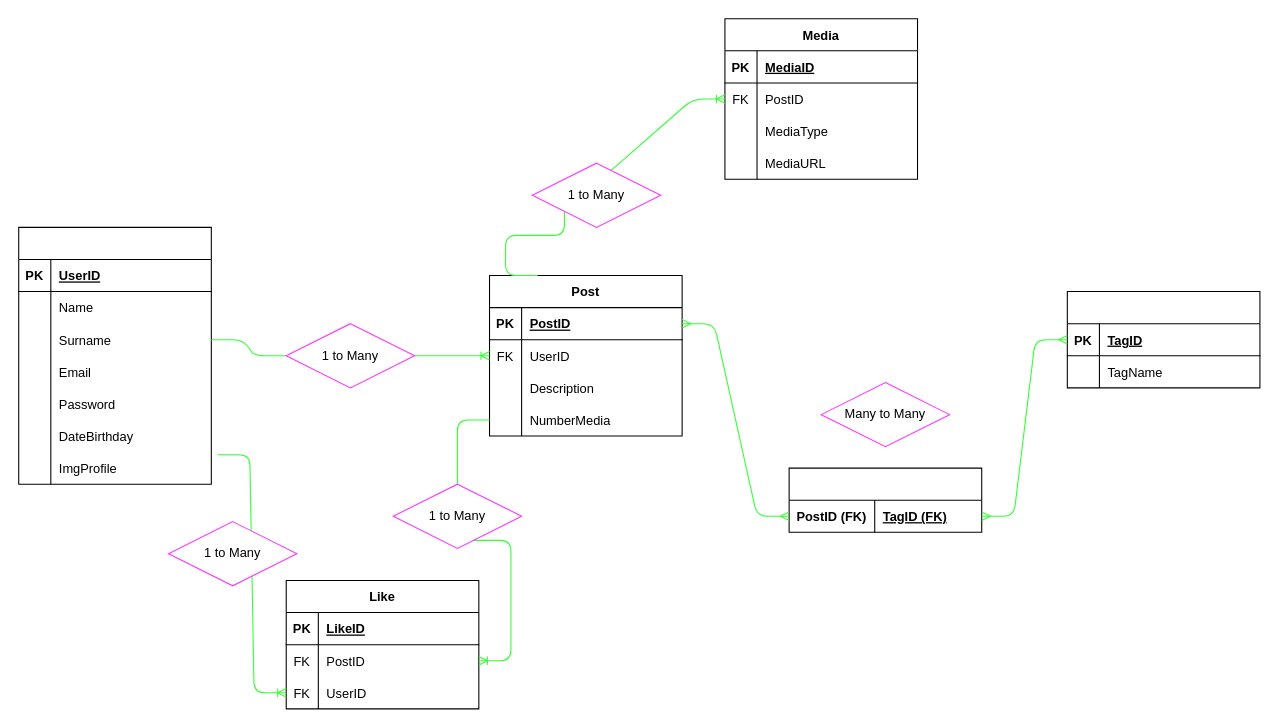
The diagram is 1279 pixels wide and 728 high, and some of its shapes have lost their labels. Each missing label, with the box of its shape:
Post_Tag: (788, 467, 982, 532)
Tags: (1066, 291, 1260, 388)
Users: (18, 226, 211, 484)
